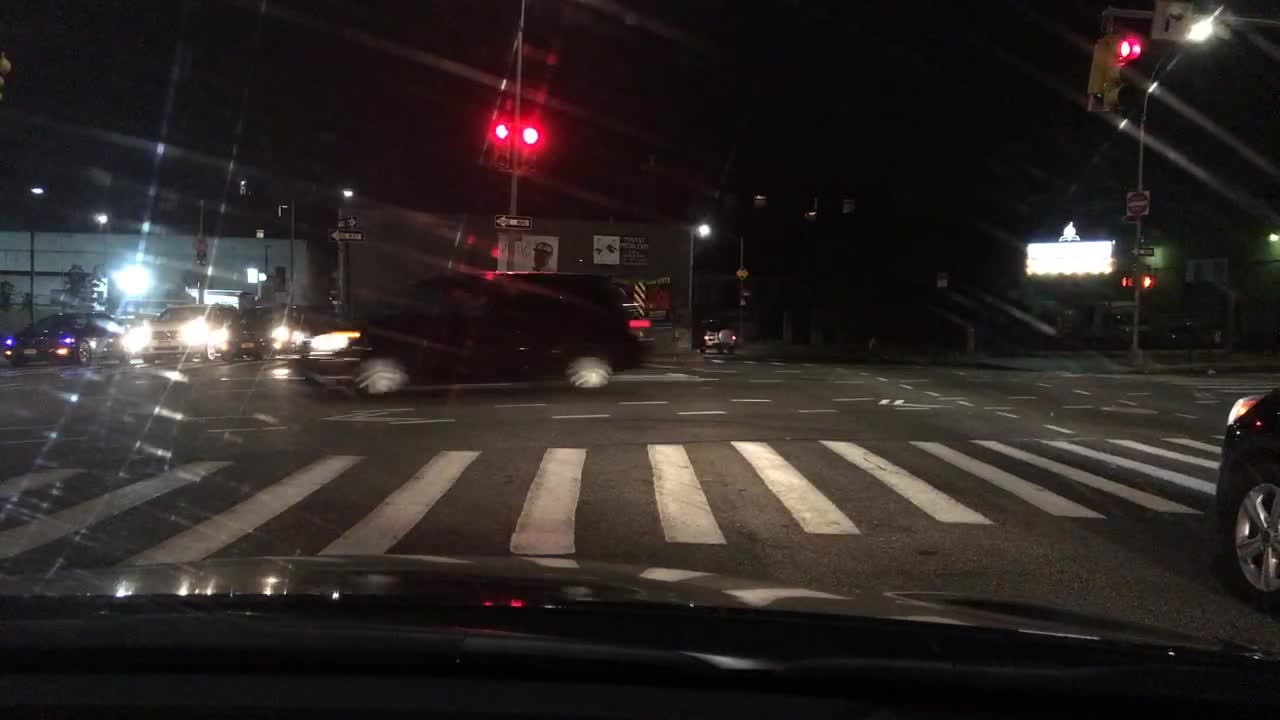car: (310, 270, 650, 397), (1210, 390, 1277, 612), (118, 302, 241, 366), (6, 310, 117, 368), (224, 302, 319, 360), (113, 295, 199, 357), (1076, 299, 1156, 350), (1153, 316, 1223, 350), (692, 322, 741, 357)
traffic light: (1113, 32, 1147, 107), (491, 111, 512, 154), (523, 114, 542, 158), (1136, 270, 1158, 288), (1118, 275, 1134, 287)
traffic sign: (589, 228, 619, 268), (1125, 190, 1152, 217), (494, 216, 538, 228), (332, 228, 365, 242), (335, 216, 359, 228), (1132, 246, 1155, 254), (735, 266, 747, 280)
